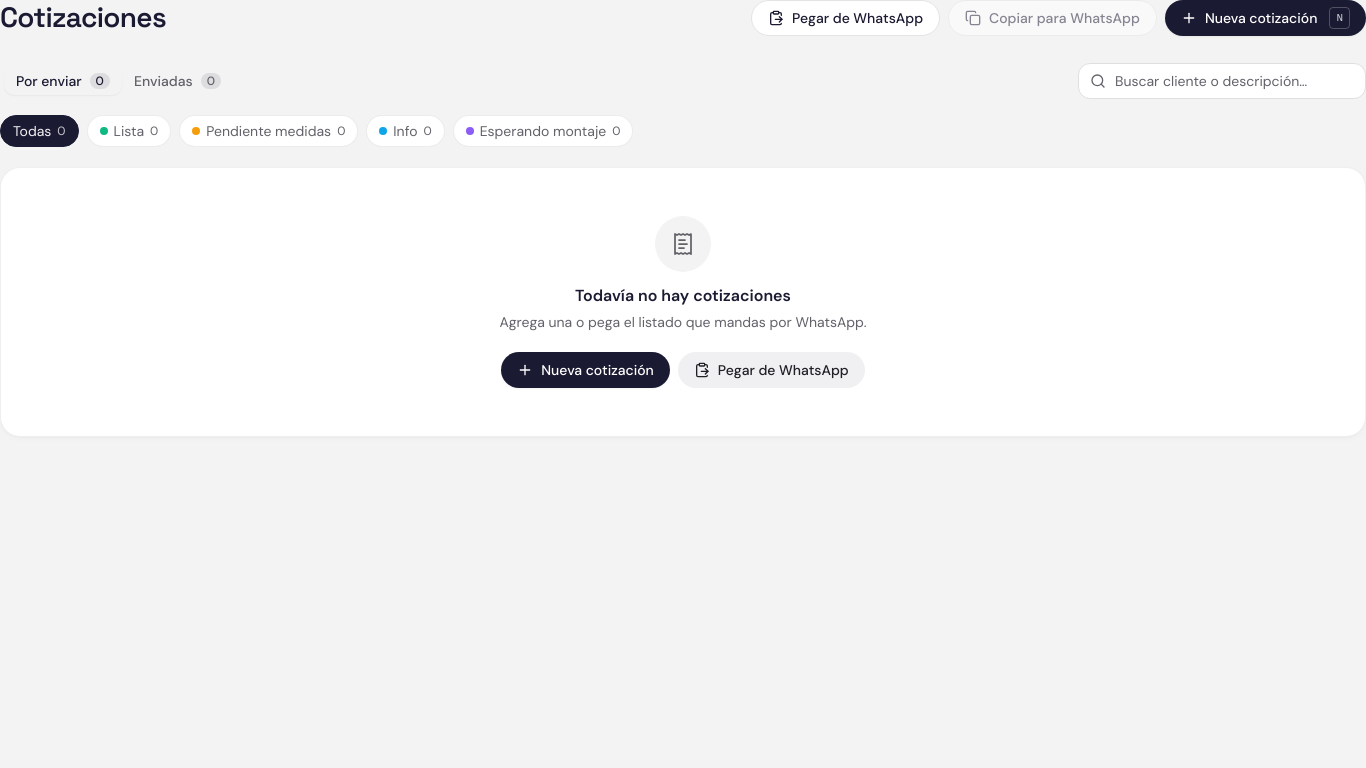
Página Cotizaciones › el alta exige cliente y descripción
Click the button "Nueva cotización N" at [1265, 18], box [1165,0,1365,36]
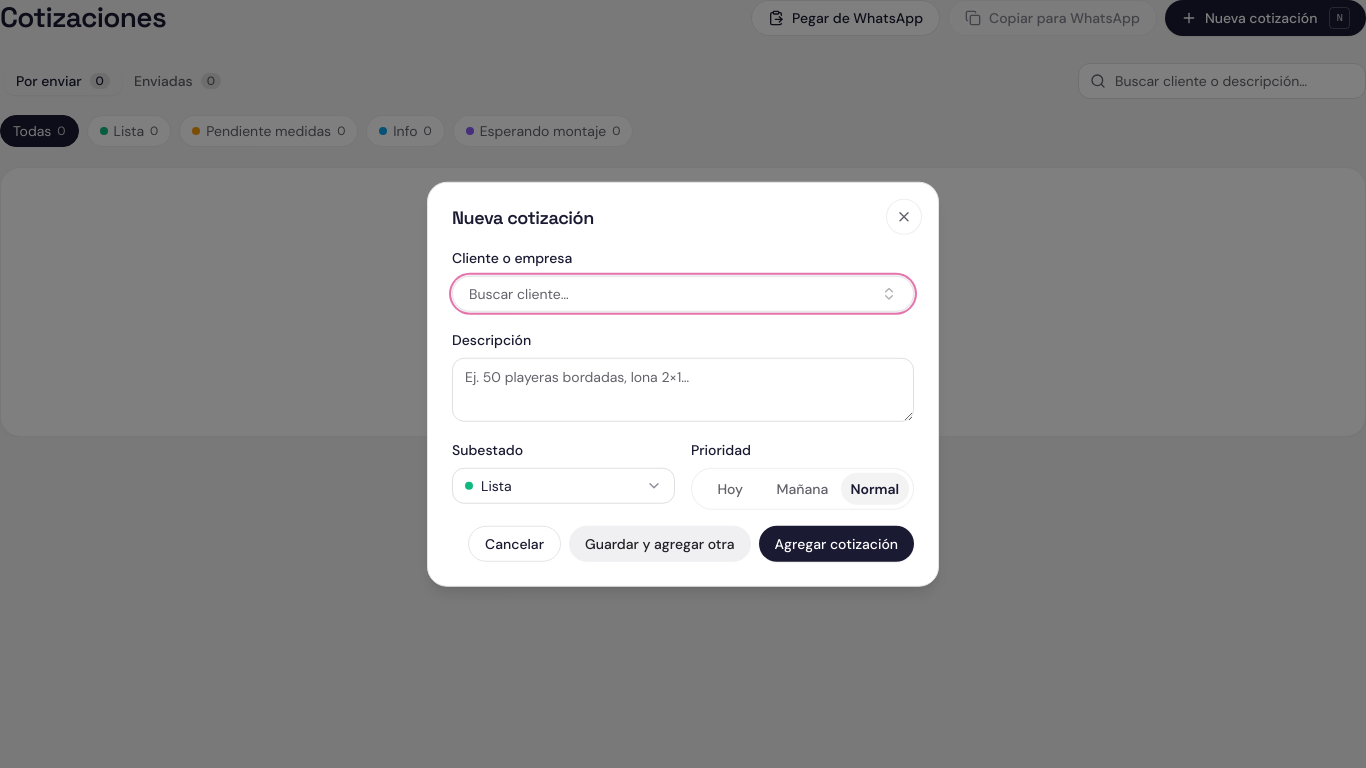
Click the button "Agregar cotización" at [836, 543], box [759,525,914,561]
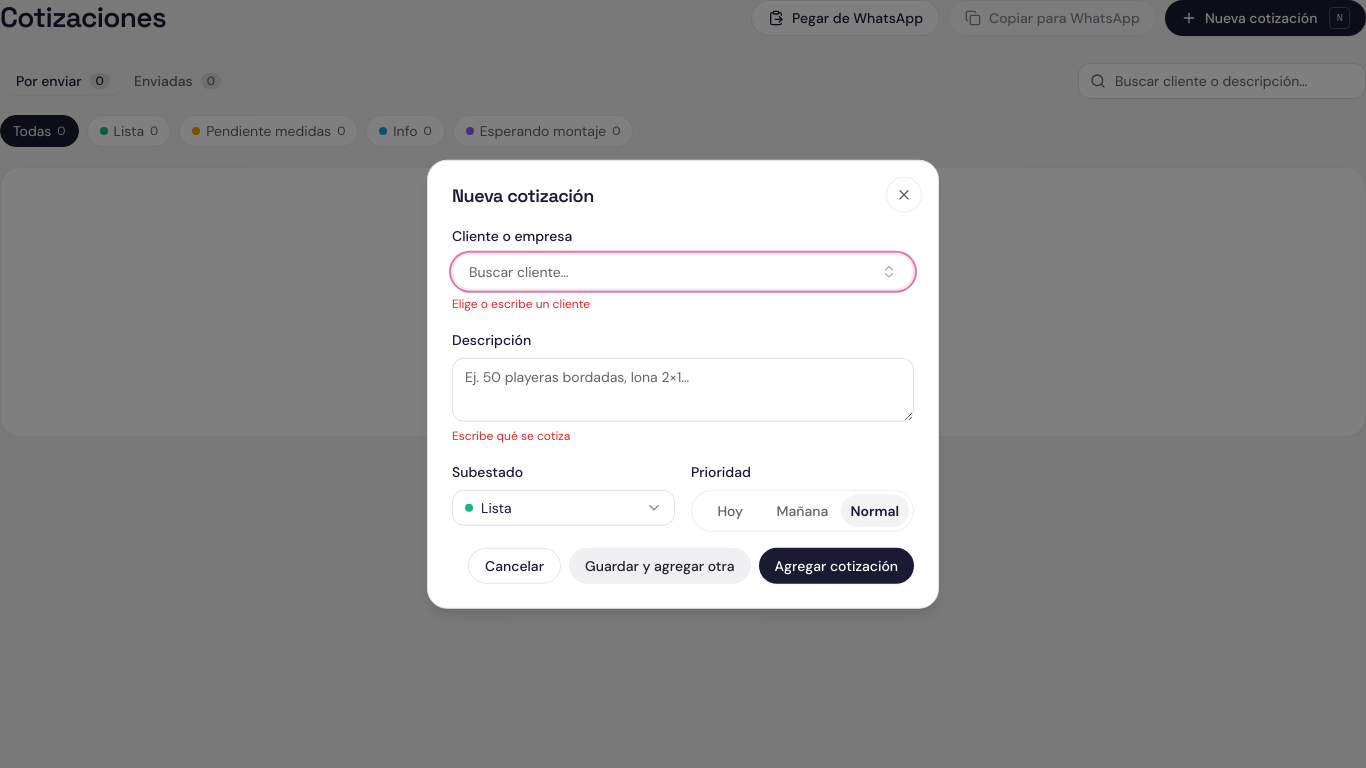
Expected: the text "Elige o escribe un cliente" is shown, [452,295,590,311]
Expected: the text "Escribe qué se cotiza" is shown, [452,427,570,443]
